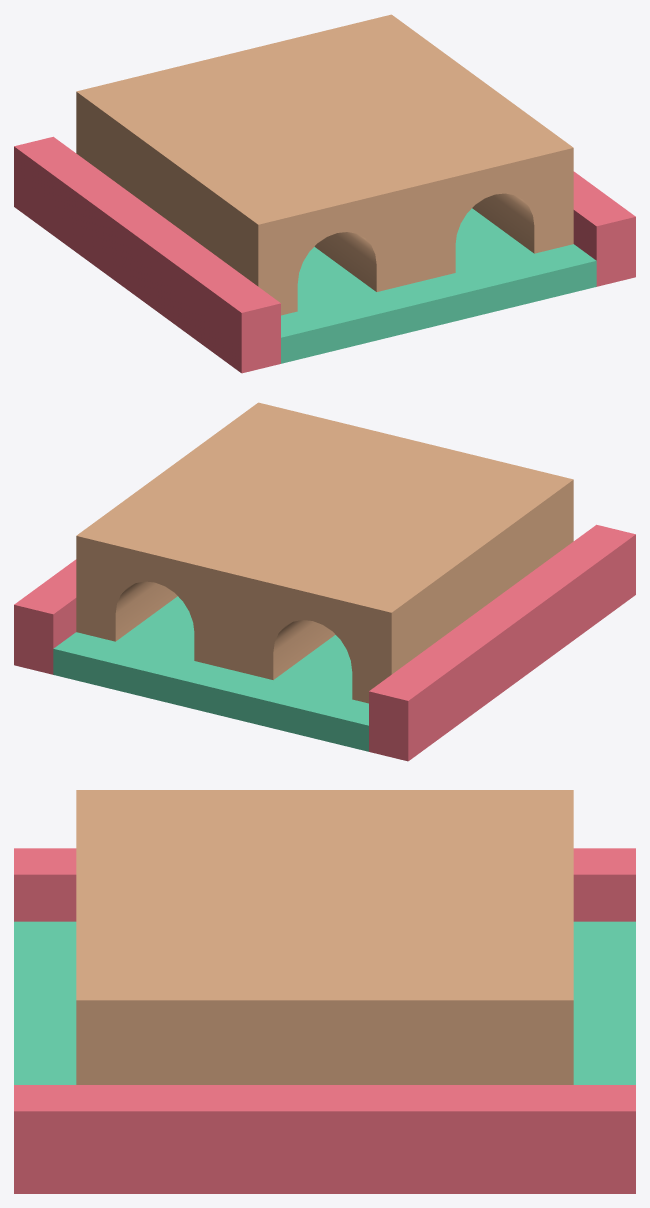
File: tunnelDouble.glb
3 renders of one model, top to bottom at view 1: azimuth 30°, elevation 25°; view 2: azimuth 150°, elevation 25°; view 3: azimuth 270°, elevation 25°, orthographic. The views are drawn at different scales.
Parts seen in each view (by area): view 1: tunnelDouble; view 2: tunnelDouble; view 3: tunnelDouble.
Boxes of the visible parts, x1=… form: tunnelDouble: x1=14, y1=14, x2=635, y2=373; tunnelDouble: x1=14, y1=402, x2=635, y2=761; tunnelDouble: x1=14, y1=790, x2=635, y2=1193.
Bounding box in the file's own units: 0.9999 × 0.2966 × 0.9999.
